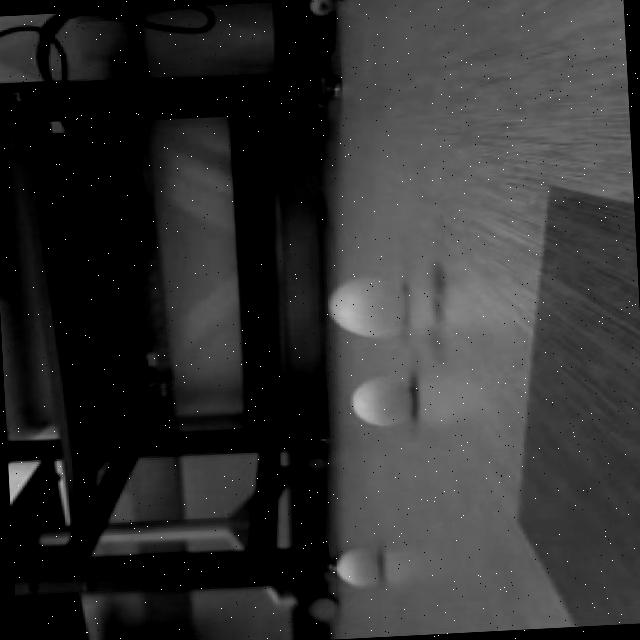ping-pong-ball: (316, 272, 414, 346), (346, 374, 416, 431), (329, 547, 386, 594), (303, 0, 339, 24)
